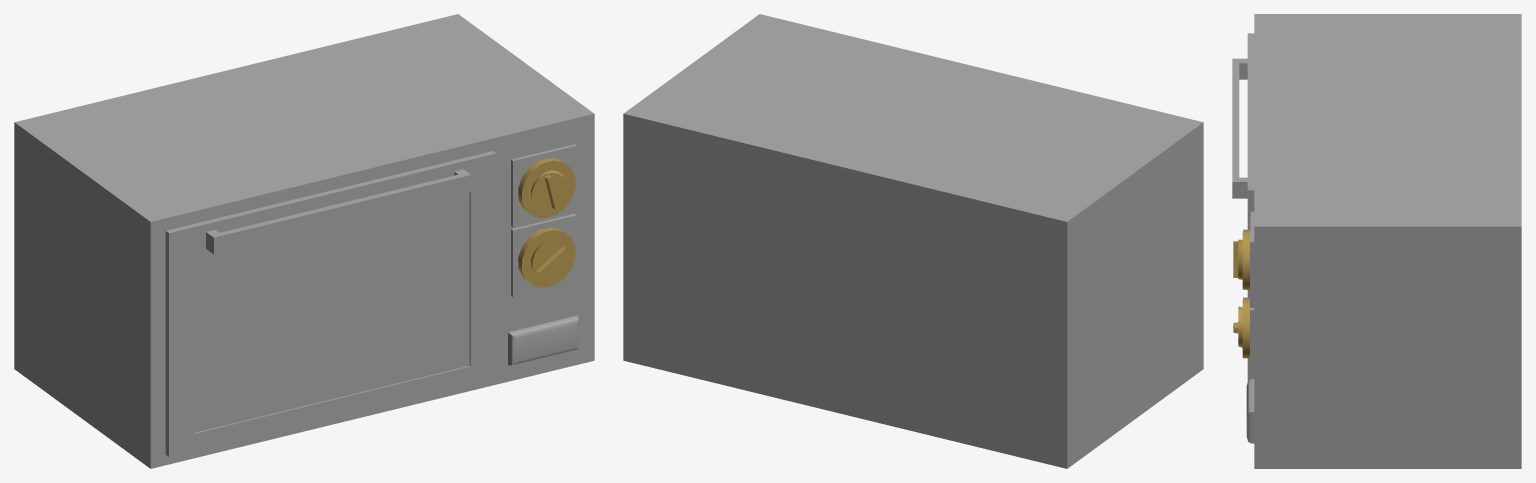
File: oven.fbx
3 views of the same model, side by side, from view 1: azimuth 30°, elevation 25°; view 2: azimuth 150°, elevation 25°; view 3: azimuth 270°, elevation 25° (orthographic).
Visible parts, largest first — view 1: ovenbox, ovendoor; view 2: ovenbox; view 3: ovenbox, ovendoor.
Part boxes in pixels (left/top/right/bottom): ovenbox: left=14, top=14, right=594, bottom=468; ovendoor: left=165, top=151, right=496, bottom=457; ovenbox: left=623, top=14, right=1203, bottom=468; ovenbox: left=1233, top=14, right=1521, bottom=468; ovendoor: left=1232, top=33, right=1254, bottom=381.
Bounding box in the file's own units: 0.7911 × 0.4207 × 0.4553.
